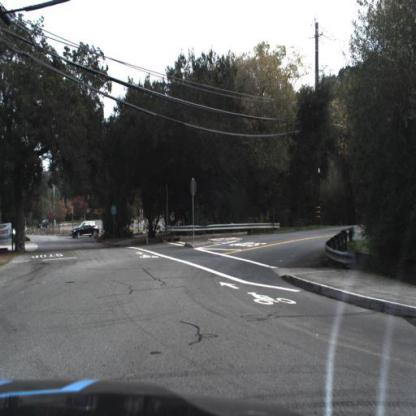car: (68, 218, 105, 240)
